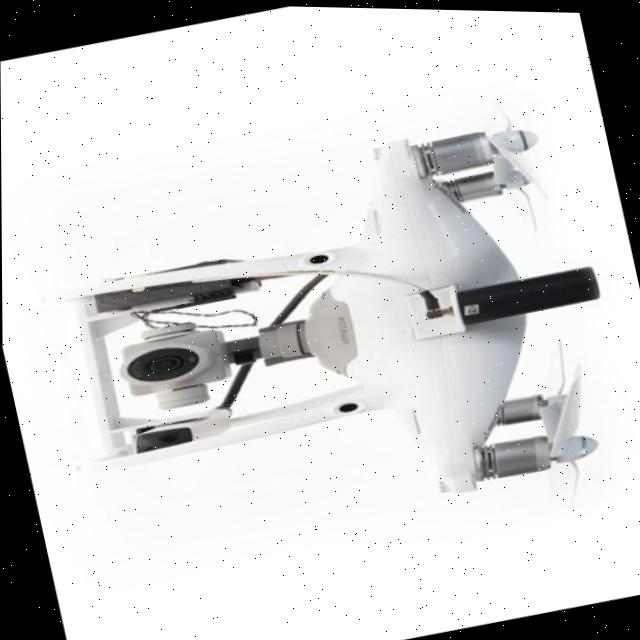drones: (38, 91, 640, 603)
